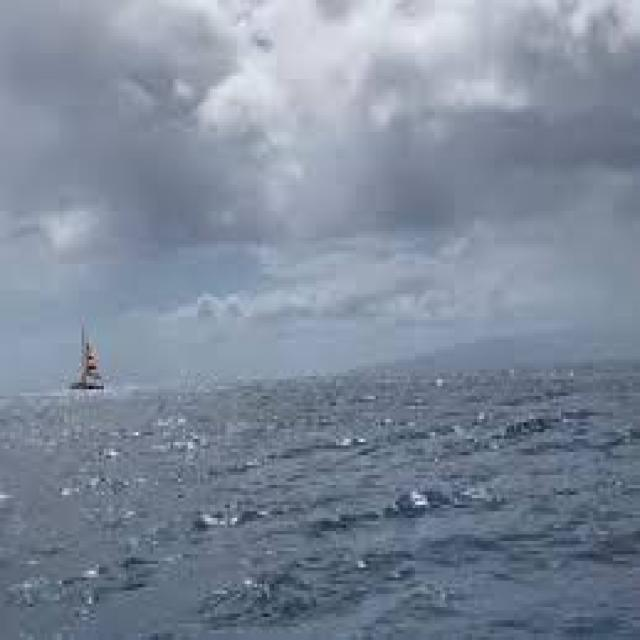fishing boat: (52, 321, 129, 408)
